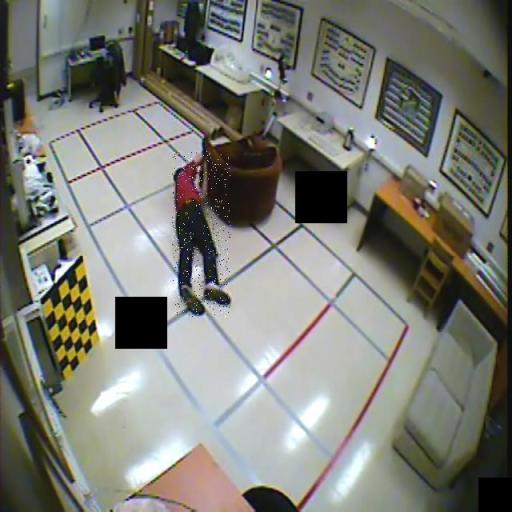Fall: (172, 151, 230, 317)
